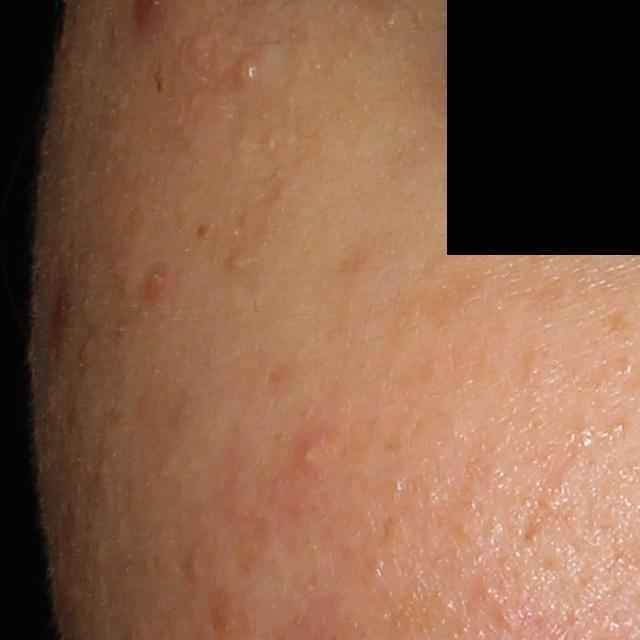comedo: (224, 249, 253, 271)
melasma: (394, 267, 493, 327), (331, 234, 402, 283), (599, 300, 640, 340)
papule: (145, 265, 169, 301)
